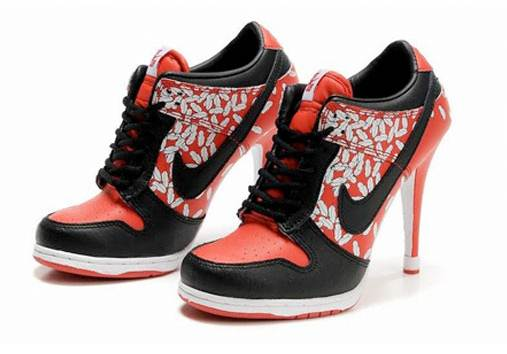nike: (171, 58, 280, 200), (337, 82, 436, 234)
